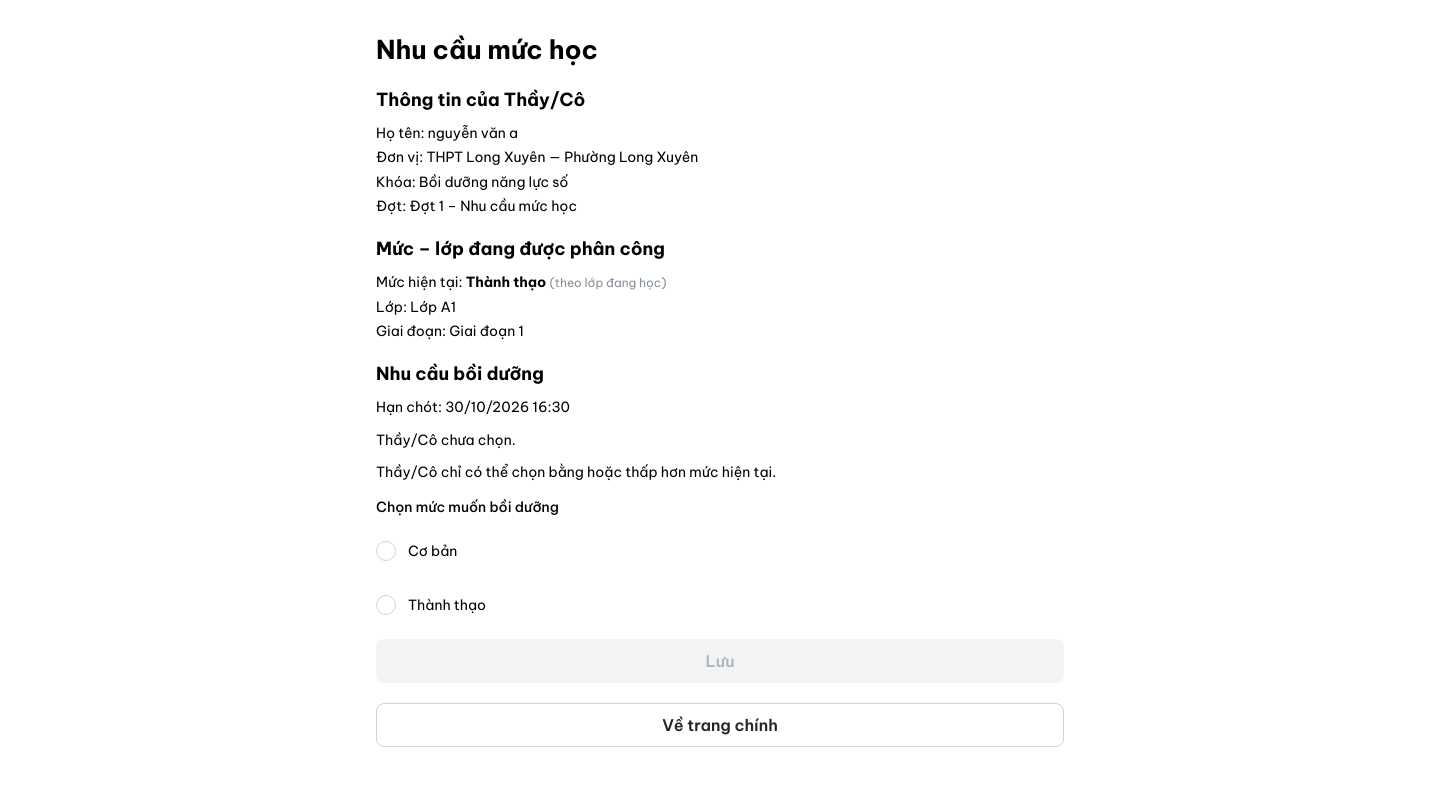
Test: M9 — chọn nhu cầu mức học (ADR 0013) › PUT trả 403 DOT_NHU_CAU_DONG: chuyển sang chỉ xem
Click the radio button labelled "Cơ bản". click: (386, 551)
box: [376,541,396,561]
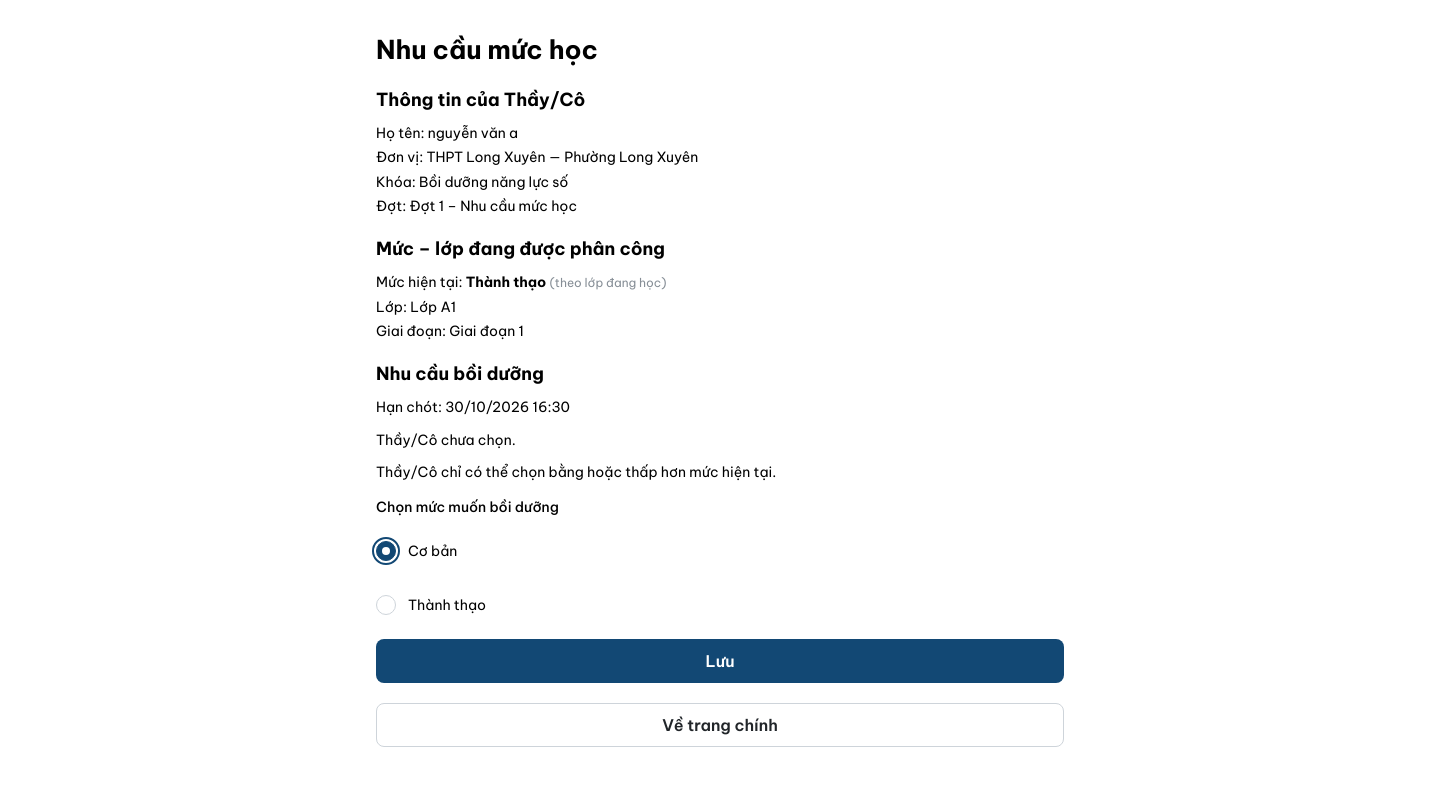
Click the button "Lưu". click: (720, 661)
box: [376,639,1064,683]
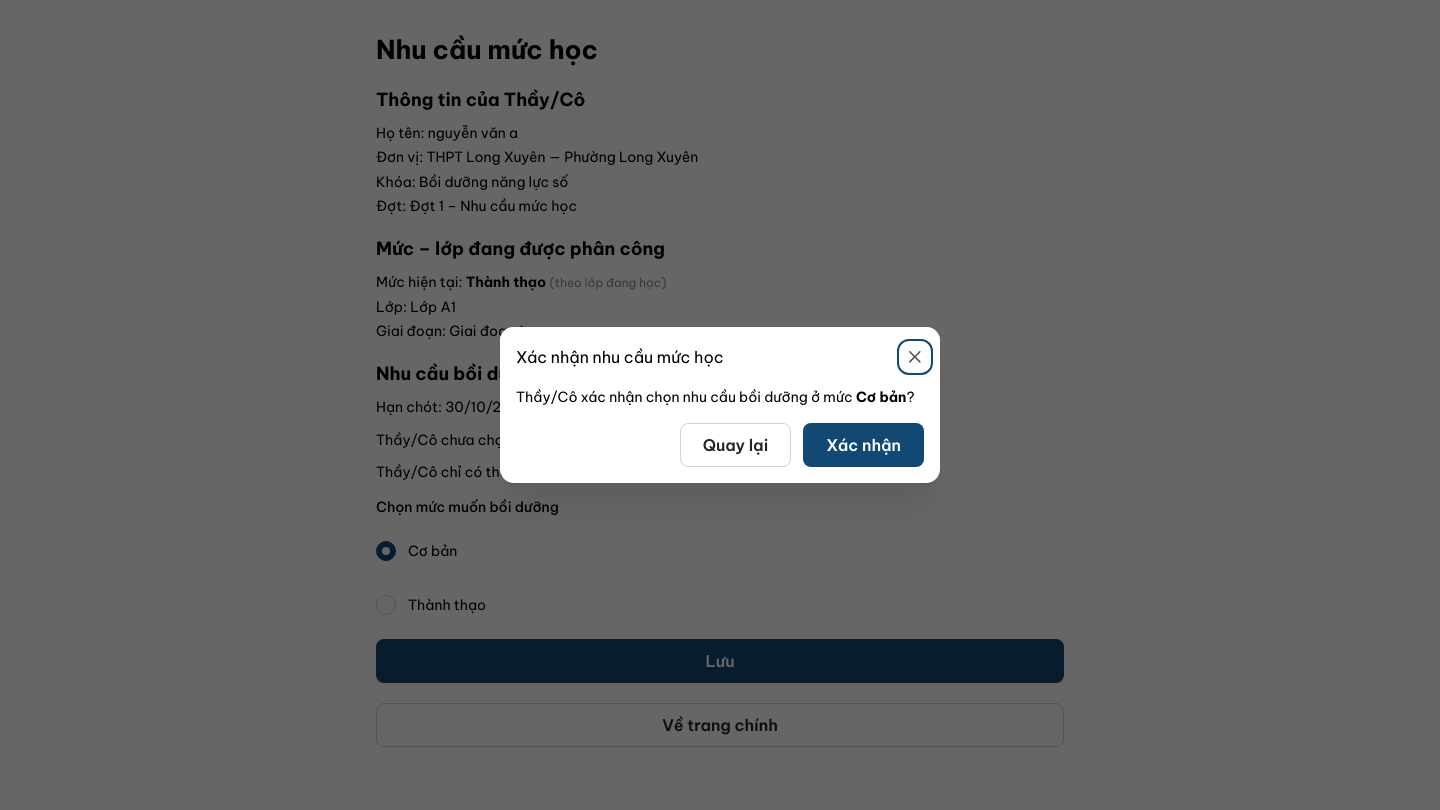
Click the button "Xác nhận". click: (864, 445)
box: [803,423,924,467]
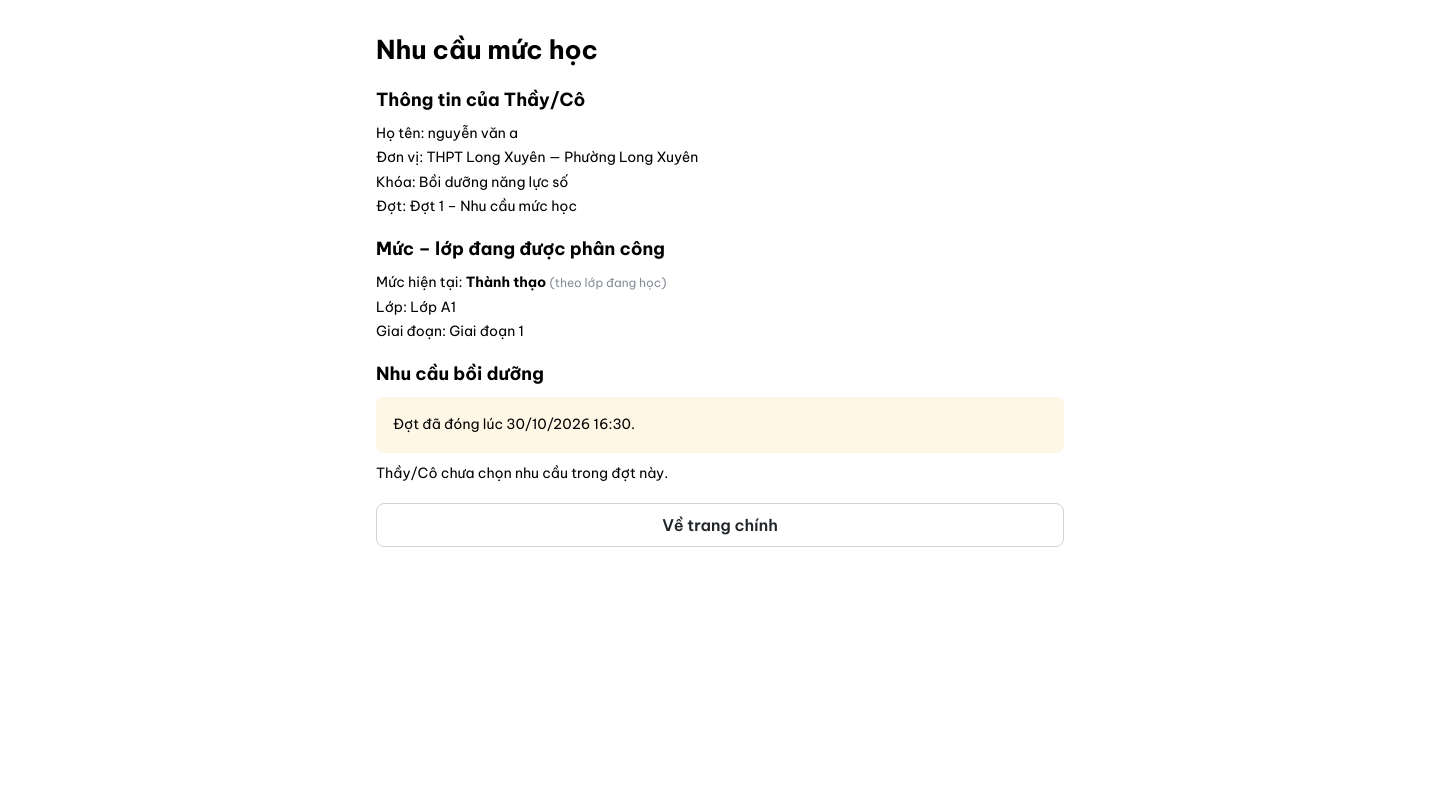
Expected: the text "Đợt đã đóng lúc 30/10/2026 16:30." is shown, [393,416,635,434]
Expected: the button "Lưu" is gone
